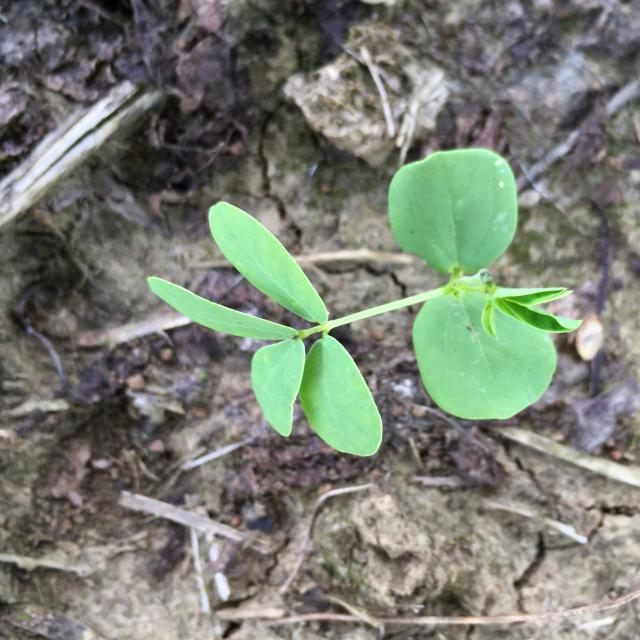Sicklepod: (147, 149, 583, 457)
